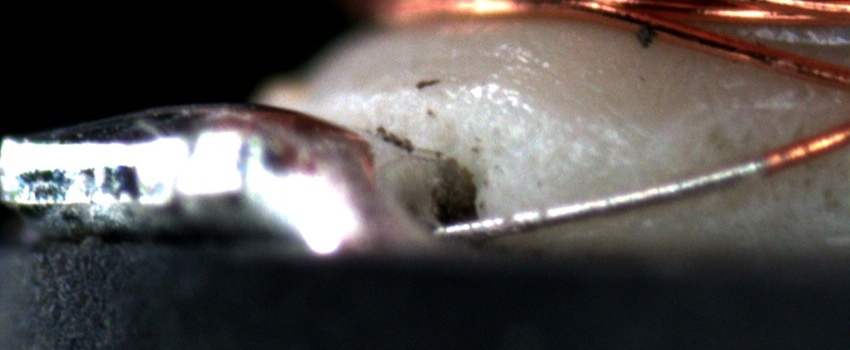TS: (439, 153, 766, 243)
